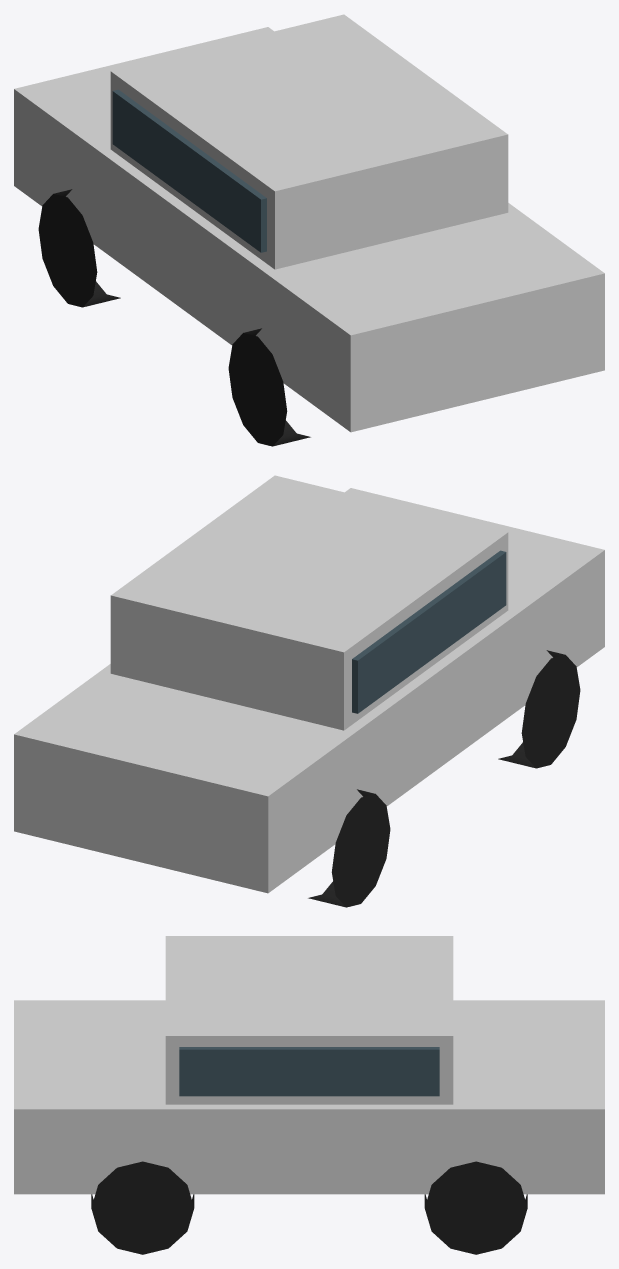
Rendered from sedan.glb.
3 renders of one model, top to bottom at view 1: azimuth 30°, elevation 25°; view 2: azimuth 150°, elevation 25°; view 3: azimuth 270°, elevation 25°, orthographic. The views are drawn at different scales.
Visible parts, largest first — view 1: cars/sedan; view 2: cars/sedan; view 3: cars/sedan.
Boxes of the visible parts, <box> form: cars/sedan: <box>14,14,604,446</box>; cars/sedan: <box>14,475,604,907</box>; cars/sedan: <box>14,936,604,1254</box>.
Bounding box in the file's own units: 0.5026 × 0.3846 × 1.
